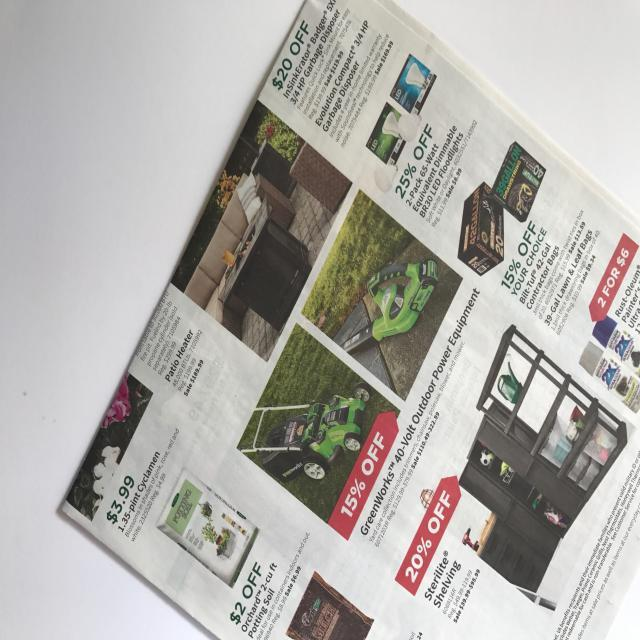paper: (54, 1, 640, 640)
